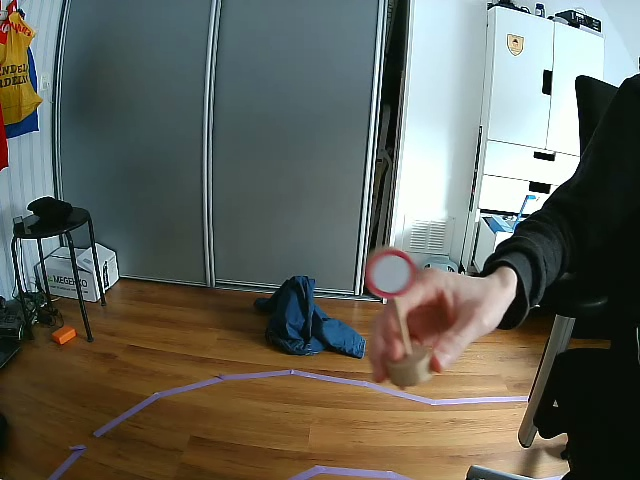wegdicht: (368, 249, 413, 301)
